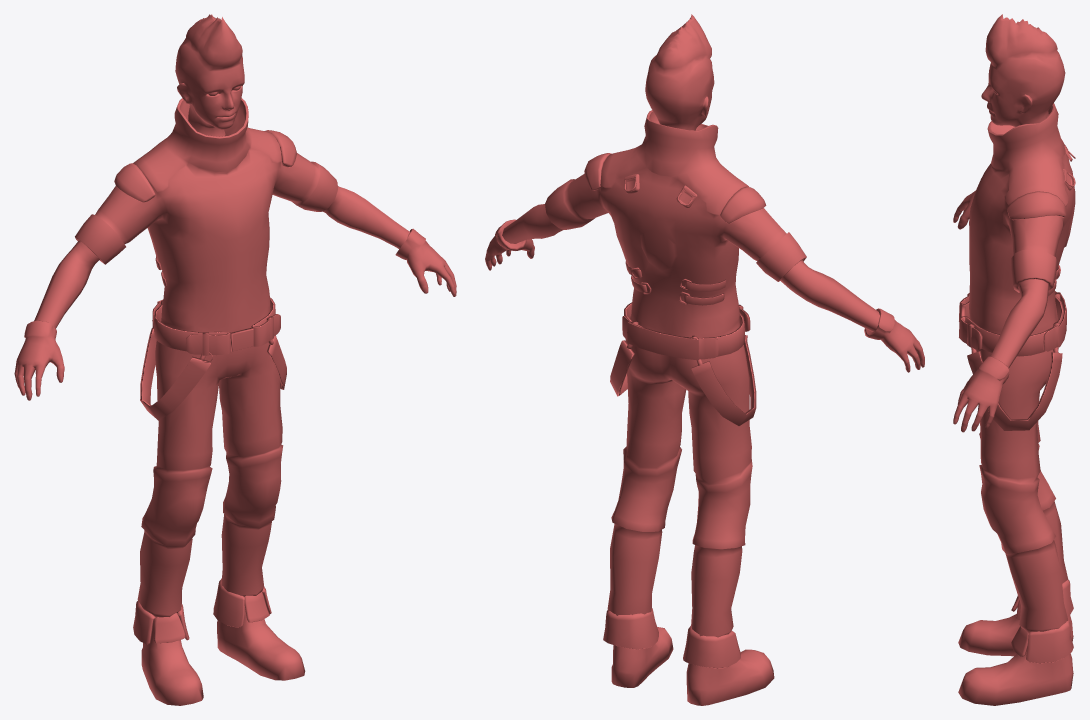
Rendered from SM_Ethan.fbx.
3 views of the same model, side by side, from view 1: azimuth 30°, elevation 25°; view 2: azimuth 150°, elevation 25°; view 3: azimuth 270°, elevation 25° (orthographic).
Visible parts, largest first — view 1: Unity_Ethan; view 2: Unity_Ethan; view 3: Unity_Ethan.
Part boxes in pixels (left/top/right/bottom): Unity_Ethan: left=14, top=14, right=456, bottom=705; Unity_Ethan: left=485, top=14, right=924, bottom=705; Unity_Ethan: left=953, top=14, right=1075, bottom=705.
Size of the model in its own units: 108 by 158 by 26.62.
